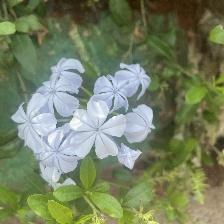chitrak: (70, 102, 124, 158), (15, 94, 57, 147), (38, 131, 82, 181), (32, 74, 83, 117), (91, 76, 130, 111), (130, 105, 157, 145), (124, 63, 151, 96)
